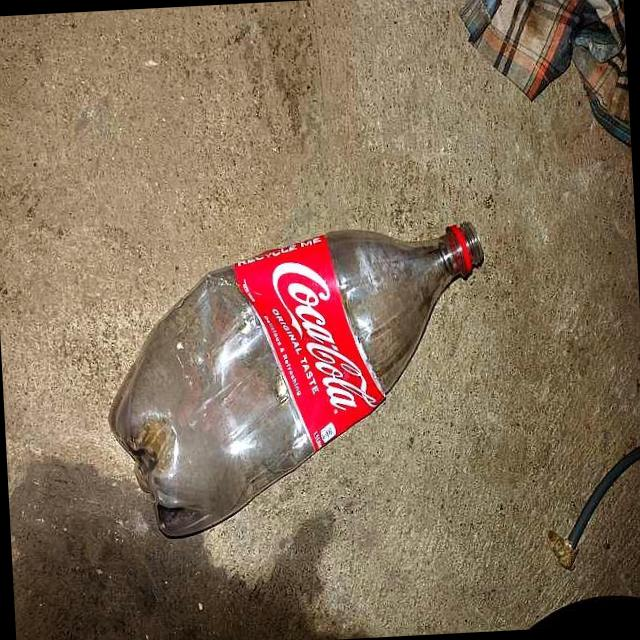Non-biodegradable: (50, 112, 533, 570)
